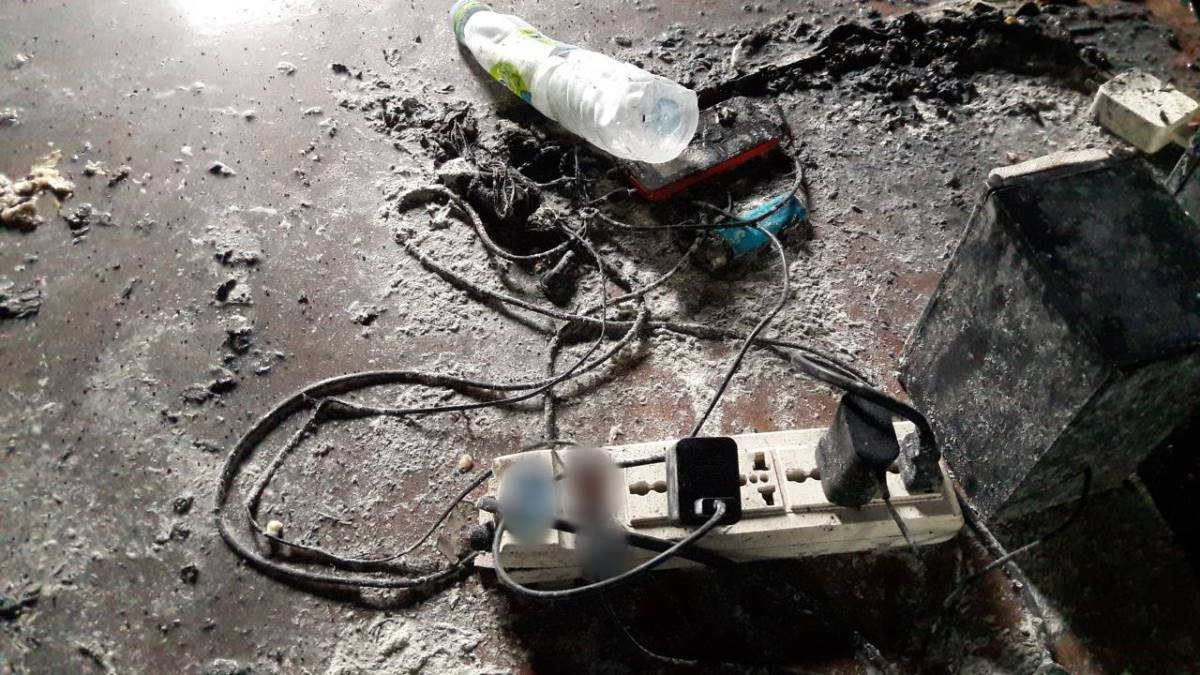Three_eye_plug: (472, 412, 974, 595)
